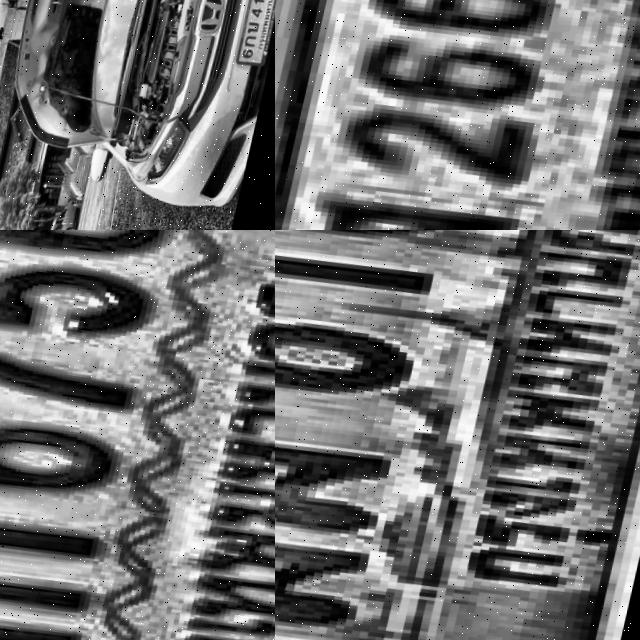license-plate: (275, 230, 640, 640), (0, 230, 275, 640), (275, 0, 640, 230), (241, 0, 275, 67)
